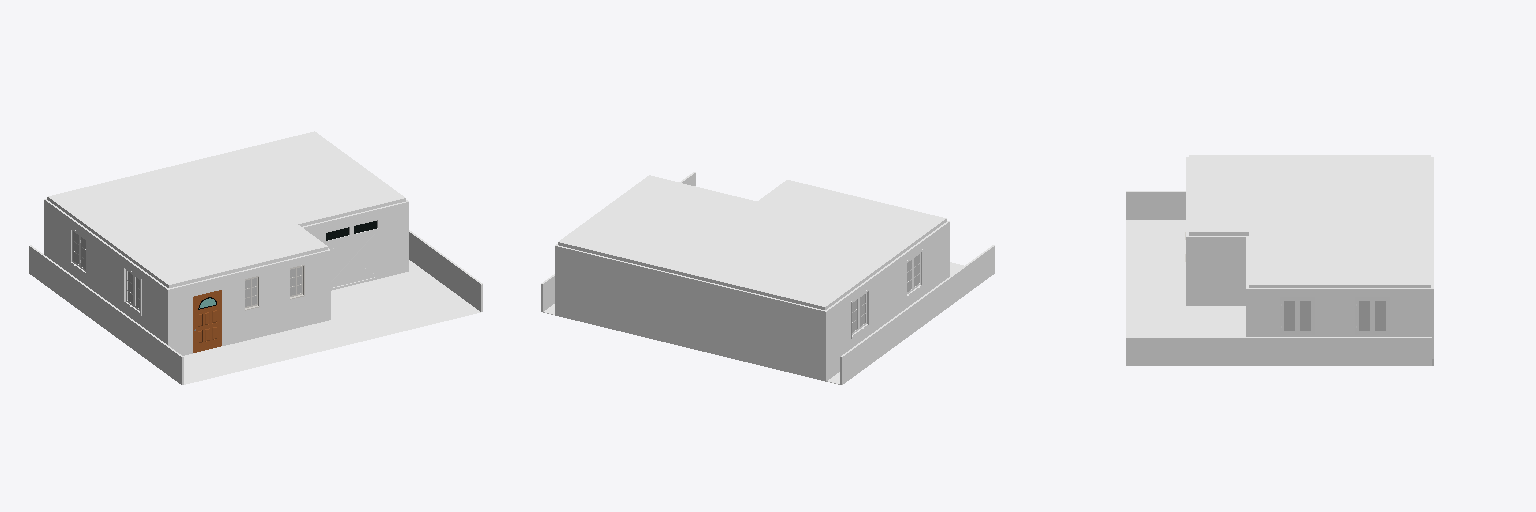
File: Casa2.obj
The picture shows the model from 3 angles: view 1: azimuth 30°, elevation 25°; view 2: azimuth 150°, elevation 25°; view 3: azimuth 270°, elevation 25°; orthographic projection.
Visible parts, largest first — view 1: room_12_52, room_11_51, wall_2_11, wall_1_5, wall_9_46, PolyMesh_1_109, wall_4_23, wall_7_40, PolyMesh_7_64; view 2: room_12_52, wall_6_35, wall_1_5, wall_9_46; view 3: room_12_52, room_11_51, wall_7_41, wall_5_29, wall_3_17, wall_9_47.
Part boxes in pixels (x1,y1,x2,y2): room_12_52: (47, 131, 405, 287); room_11_51: (183, 260, 480, 384); wall_2_11: (168, 250, 330, 355); wall_1_5: (44, 200, 167, 344); wall_9_46: (29, 246, 182, 384); PolyMesh_1_109: (324, 217, 379, 290); wall_4_23: (304, 202, 408, 278); wall_7_40: (409, 232, 481, 311); PolyMesh_7_64: (193, 290, 221, 352); room_12_52: (558, 175, 946, 309); wall_6_35: (555, 246, 825, 381); wall_1_5: (826, 222, 949, 380); wall_9_46: (841, 246, 994, 384); room_12_52: (1189, 155, 1430, 287); room_11_51: (1126, 220, 1245, 336); wall_7_41: (1126, 338, 1431, 365); wall_5_29: (1246, 289, 1433, 358); wall_3_17: (1186, 237, 1245, 305); wall_9_47: (1126, 192, 1185, 219).
Size of the model in its own units: 1130 by 262 by 997.